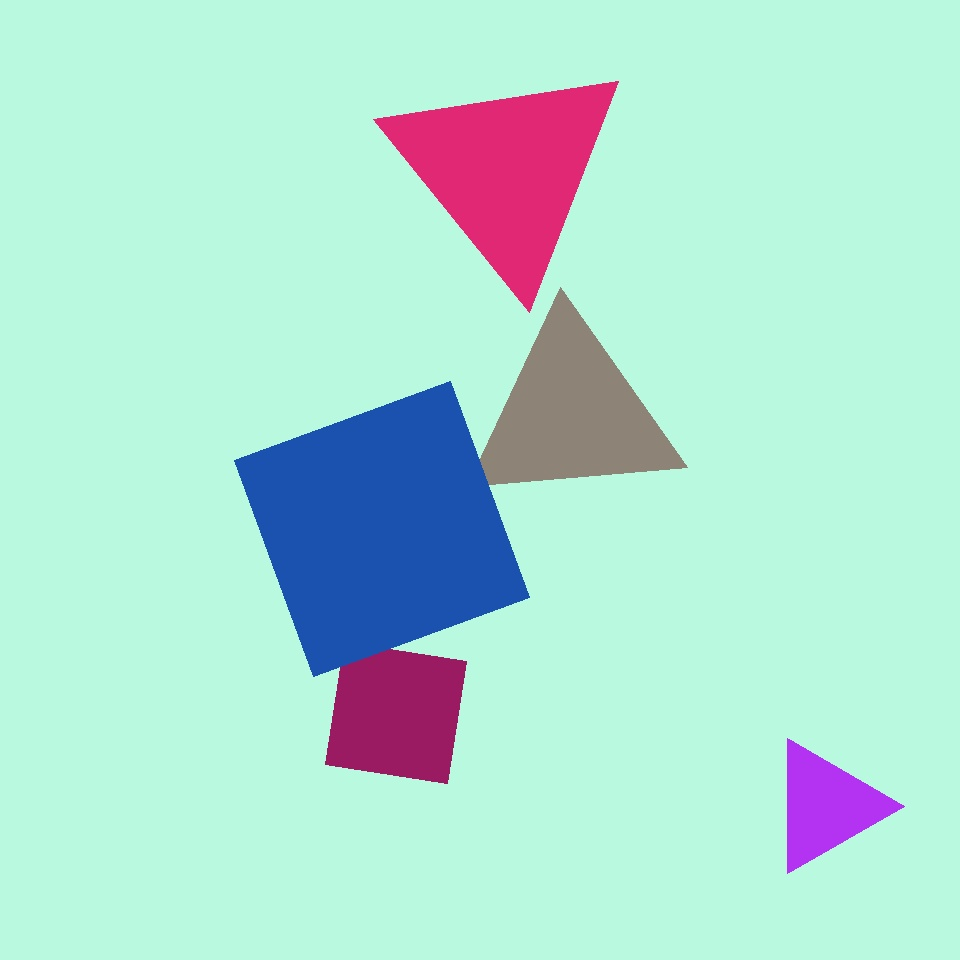circle: (384, 56, 629, 286), (582, 285, 801, 537), (462, 314, 682, 514), (768, 738, 884, 874)
square: (234, 381, 530, 676), (615, 362, 875, 621), (729, 66, 907, 245), (326, 642, 466, 784)
triangle: (531, 210, 886, 565)
